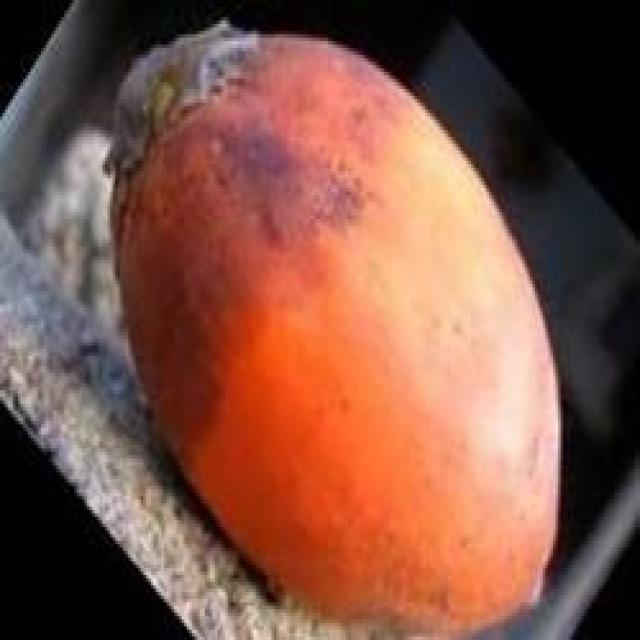good: (105, 24, 563, 637)
